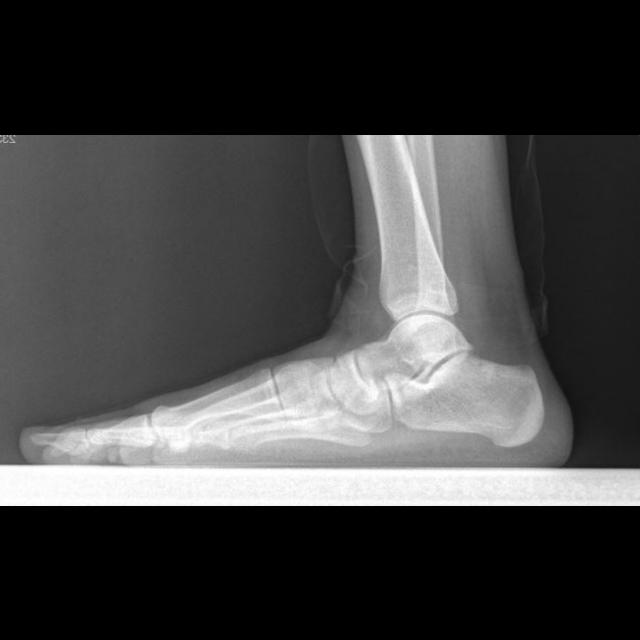a: (381, 351, 544, 448)
b: (329, 351, 381, 414)
c: (150, 367, 287, 439)
